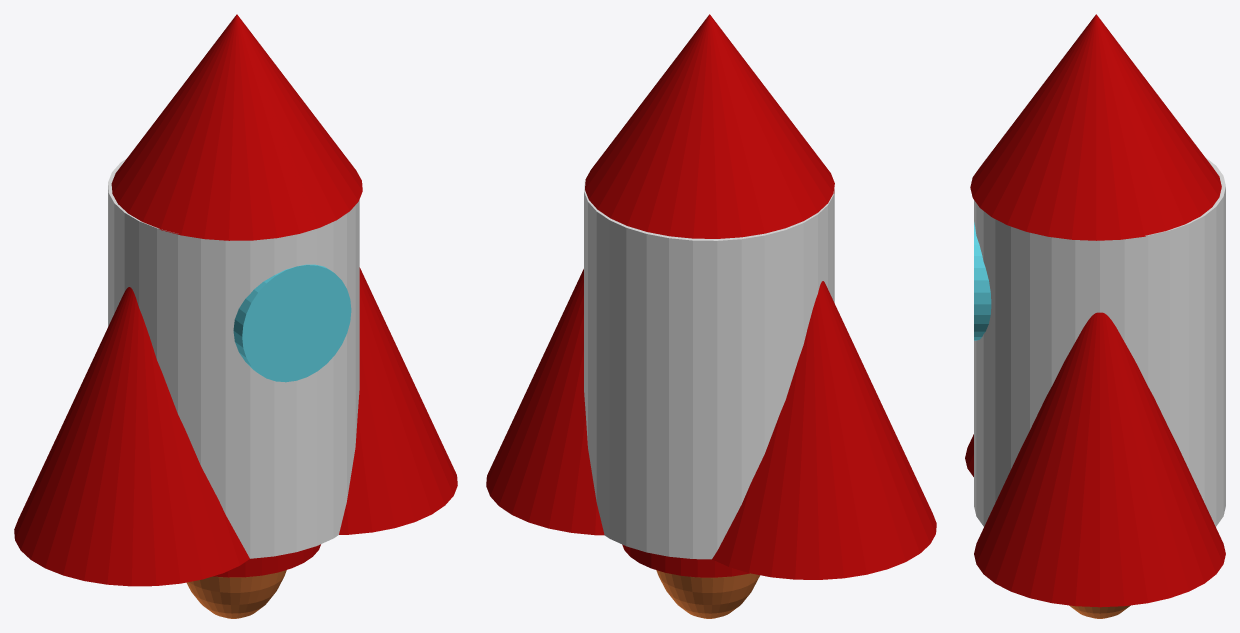
The model's file is Rocket.fbx.
3 views of the same model, side by side, from view 1: azimuth 30°, elevation 25°; view 2: azimuth 150°, elevation 25°; view 3: azimuth 270°, elevation 25° (orthographic).
Visible parts, largest first — view 1: 円柱.002; view 2: 円柱.002; view 3: 円柱.002.
Boxes of the visible parts, x1,y1,x2,y2 form: 円柱.002: (14, 14, 457, 618); 円柱.002: (486, 14, 936, 618); 円柱.002: (965, 14, 1225, 618).
Bounding box in the file's own units: 380 × 527 × 207.
